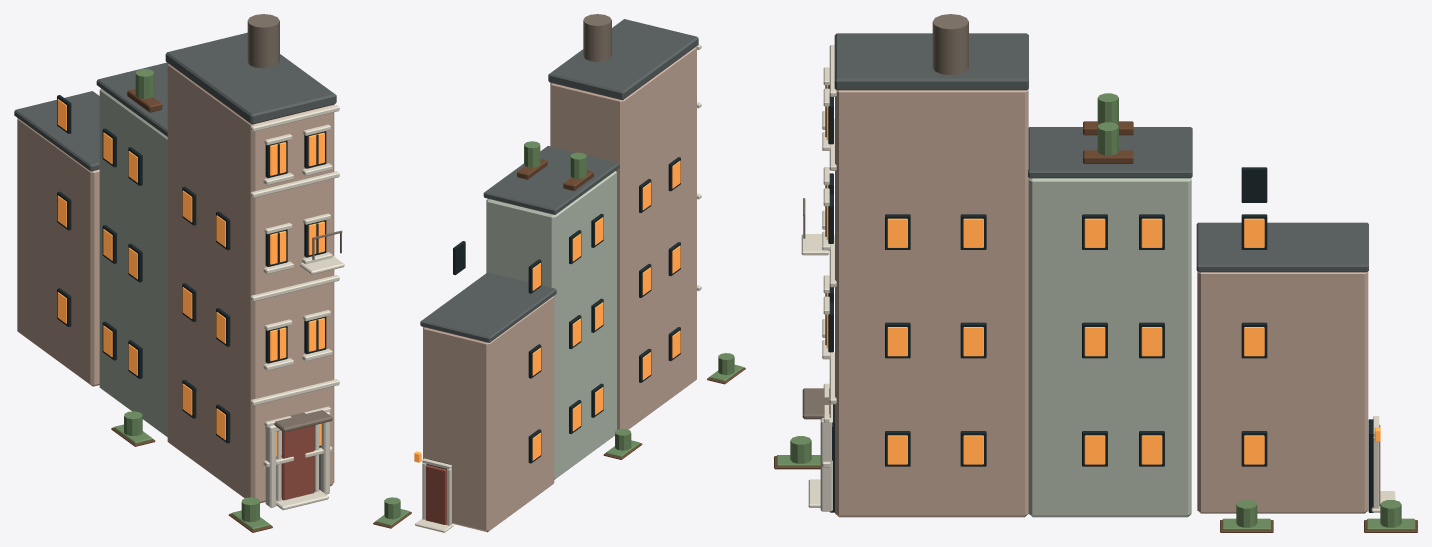
The model's file is eastside_stepped_apartment_v1.5af57644b889.glb.
3 renders of one model, left to right at view 1: azimuth 30°, elevation 25°; view 2: azimuth 150°, elevation 25°; view 3: azimuth 270°, elevation 25°, orthographic. The views are drawn at different scales.
Parts seen in each view (by area): view 1: eastside_stepped_apartment_v1Shell, DoorLeaf, DoorFrame; view 2: eastside_stepped_apartment_v1Shell, ServiceDoorLeaf, ServiceDoorFrame; view 3: eastside_stepped_apartment_v1Shell.
Part boxes in pixels (x1,y1,x2,y2): eastside_stepped_apartment_v1Shell: (14, 14, 344, 532); DoorLeaf: (282, 425, 314, 500); DoorFrame: (276, 424, 319, 501); eastside_stepped_apartment_v1Shell: (373, 14, 745, 532); ServiceDoorLeaf: (425, 465, 446, 524); ServiceDoorFrame: (422, 458, 451, 525); eastside_stepped_apartment_v1Shell: (774, 14, 1417, 532).
Bounding box in the file's own units: 4.7 × 14.22 × 16.97.
